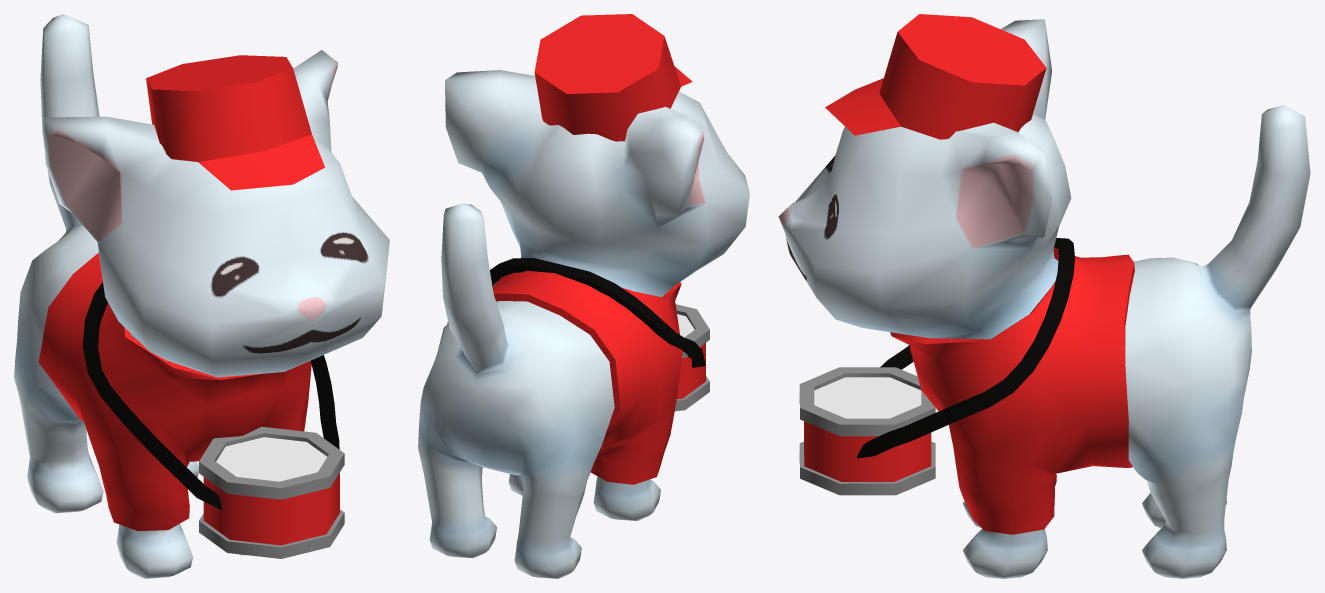
File: Band Cat05.fbx
3 views of the same model, side by side, from view 1: azimuth 30°, elevation 25°; view 2: azimuth 150°, elevation 25°; view 3: azimuth 270°, elevation 25° (orthographic). The views are drawn at different scales.
Visible parts, largest first — view 1: Cat_Base004, Band_Cat_Uniform, Band_Cat_Drums, Band_Cat_Hat; view 2: Cat_Base004, Band_Cat_Uniform, Band_Cat_Hat, Band_Cat_Drums; view 3: Cat_Base004, Band_Cat_Uniform, Band_Cat_Drums, Band_Cat_Hat.
Part boxes in pixels (bbox=[...]): Cat_Base004: bbox=[14, 14, 389, 578]; Band_Cat_Uniform: bbox=[38, 252, 311, 531]; Band_Cat_Drums: bbox=[82, 282, 344, 558]; Band_Cat_Hat: bbox=[146, 55, 324, 190]; Cat_Base004: bbox=[418, 70, 749, 578]; Band_Cat_Uniform: bbox=[447, 271, 682, 484]; Band_Cat_Hat: bbox=[534, 14, 692, 141]; Band_Cat_Drums: bbox=[490, 258, 709, 411]; Cat_Base004: bbox=[778, 19, 1310, 578]; Band_Cat_Uniform: bbox=[890, 247, 1134, 534]; Band_Cat_Drums: bbox=[799, 238, 1074, 495]; Band_Cat_Hat: bbox=[825, 14, 1046, 139].
Bounding box in the file's own units: 1.75 × 2.83 × 3.01.
Materials: 5 (1 with a texture image).
